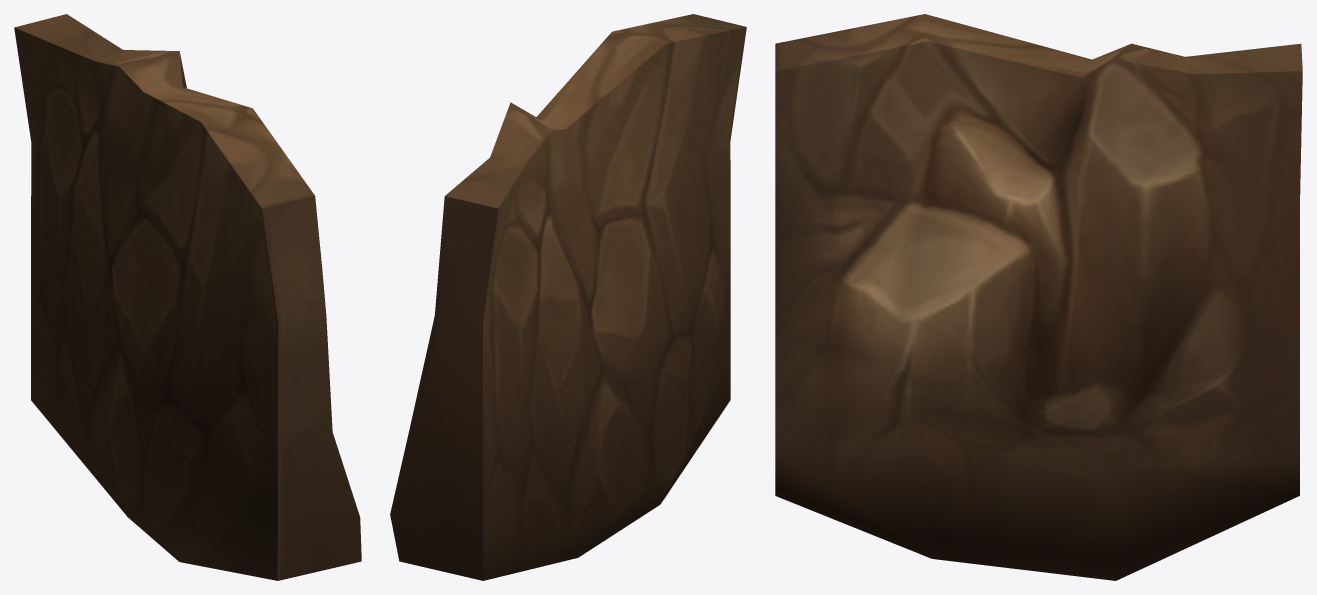
The model's file is Wall_cave_02.fbx.
3 views of the same model, side by side, from view 1: azimuth 30°, elevation 25°; view 2: azimuth 150°, elevation 25°; view 3: azimuth 270°, elevation 25° (orthographic). The views are drawn at different scales.
Parts seen in each view (by area): view 1: Wall_cave_02; view 2: Wall_cave_02; view 3: Wall_cave_02.
Boxes of the visible parts, bbox=[...] form: Wall_cave_02: bbox=[14, 14, 361, 580]; Wall_cave_02: bbox=[390, 14, 746, 580]; Wall_cave_02: bbox=[775, 14, 1302, 580].
Size of the model in its own units: 139 by 426 by 404.
